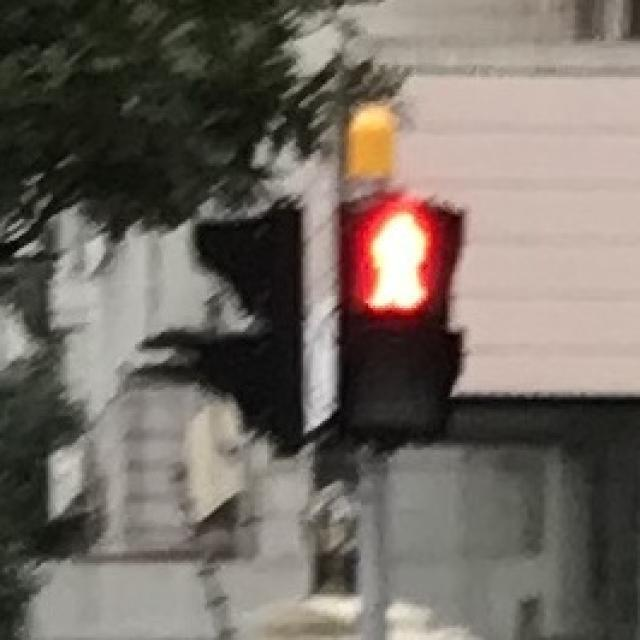red-crossing: (342, 195, 445, 318)
